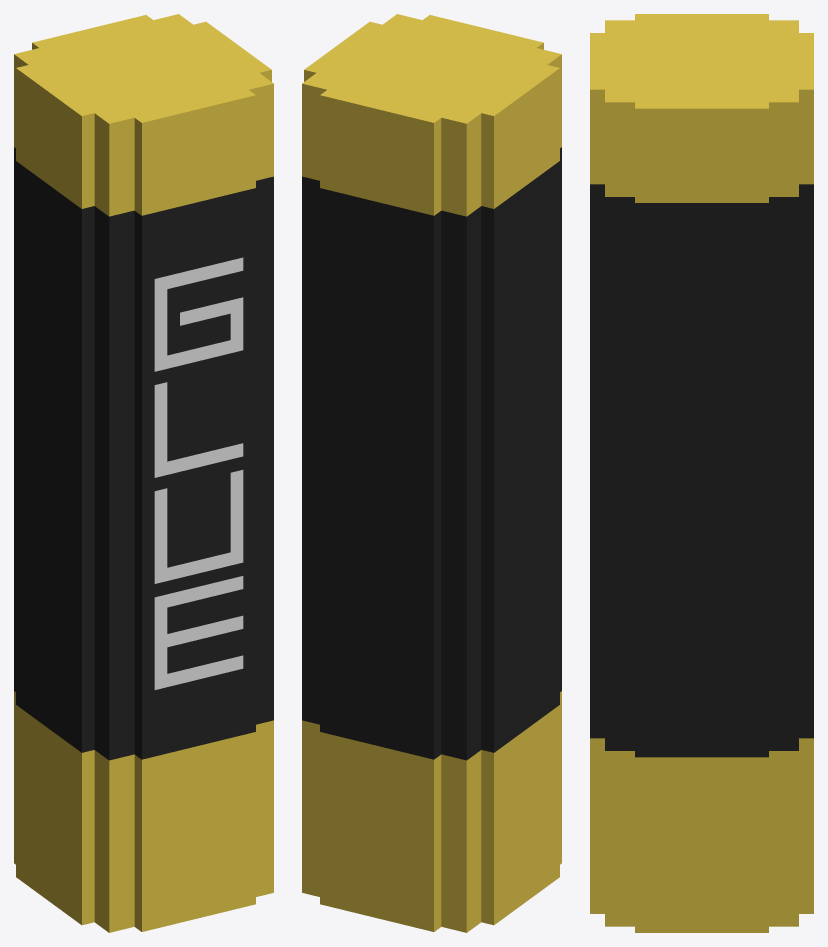
File: glue_3_1.4.obj
The picture shows the model from 3 angles, left to right: view 1: azimuth 30°, elevation 25°; view 2: azimuth 150°, elevation 25°; view 3: azimuth 270°, elevation 25°; orthographic projection.
Bounding box in the file's own units: 1.5 × 6.1 × 1.5.
1 material, 1 textured.
